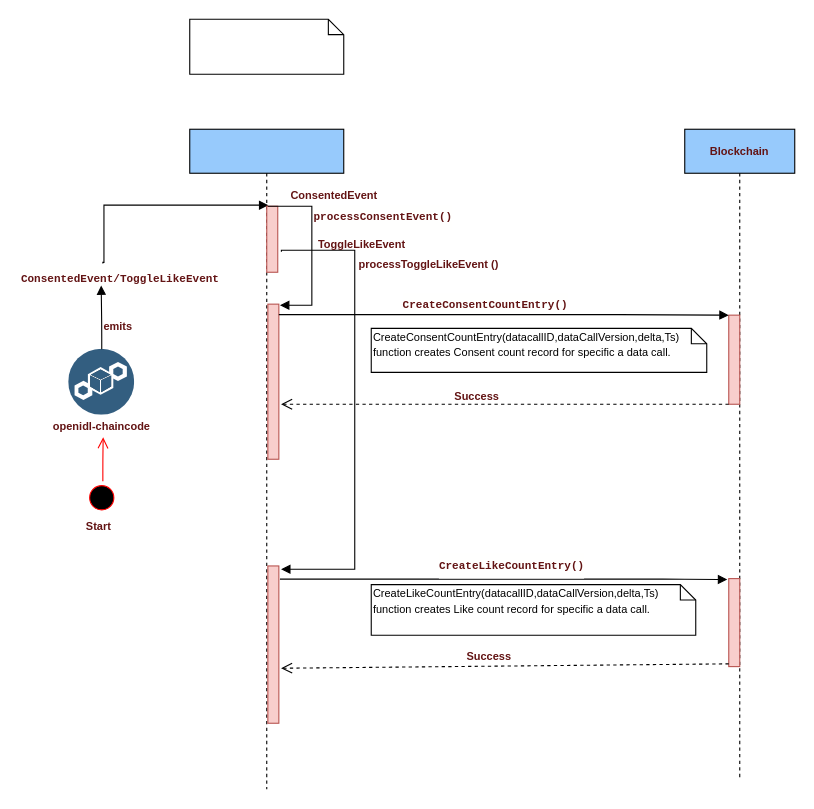
The diagram is 814 pixels wide and 809 high, and some of its shapes have lost their labels. Each missing label, with the centre of its shape:
"openidl-data-call-mood-listener" belongs at (266,458).
"Repository: openidl-data-call-mood-listener" belongs at (266,46).
